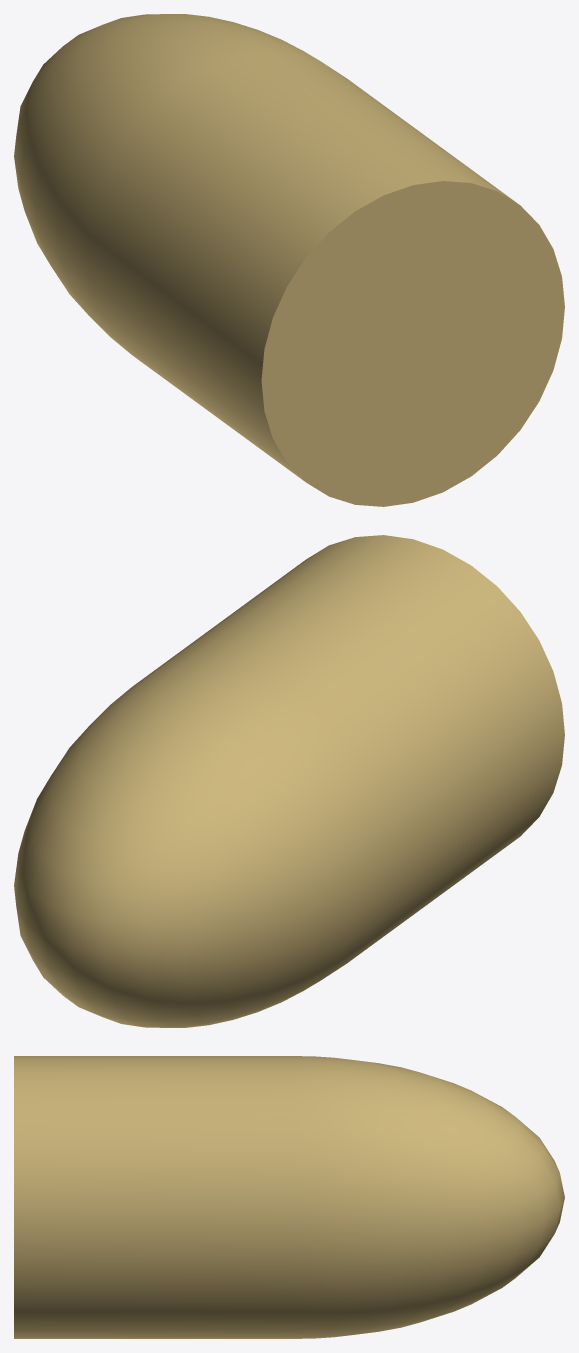
File: Bullet.fbx
3 views of the same model, one above another, from view 1: azimuth 30°, elevation 25°; view 2: azimuth 150°, elevation 25°; view 3: azimuth 270°, elevation 25° (orthographic). The views are drawn at different scales.
Visible parts, largest first — view 1: Sphere; view 2: Sphere; view 3: Sphere.
Boxes of the visible parts, box(x1,y1,x2,y2) form: Sphere: box(14, 14, 564, 506); Sphere: box(14, 535, 564, 1027); Sphere: box(14, 1056, 564, 1338).
Size of the model in its own units: 200 by 200 by 389.
